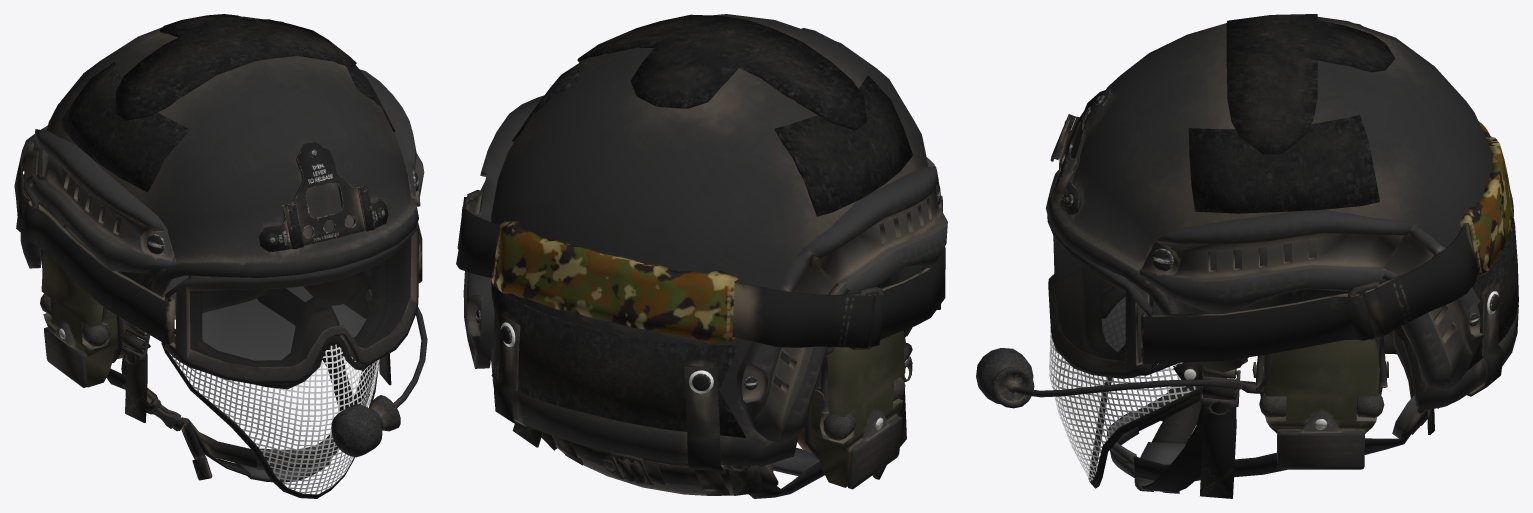
File: casco_a.glb
3 renders of one model, left to right at view 1: azimuth 30°, elevation 25°; view 2: azimuth 150°, elevation 25°; view 3: azimuth 270°, elevation 25°, orthographic. The views are drawn at different scales.
Parts seen in each view (by area): view 1: Final_Helmet Base_0, Final_Glasses_0, Final_Mask_0; view 2: Final_Helmet Base_0; view 3: Final_Helmet Base_0, Final_Glasses_0, Final_Mask_0.
Part boxes in pixels (box(x1,y1,x2,y2)): Final_Helmet Base_0: box(14, 14, 427, 498); Final_Glasses_0: box(189, 237, 411, 367); Final_Mask_0: box(172, 334, 379, 494); Final_Helmet Base_0: box(456, 14, 947, 498); Final_Helmet Base_0: box(976, 14, 1518, 498); Final_Glasses_0: box(1053, 236, 1125, 360); Final_Mask_0: box(1049, 301, 1195, 481).
Bounding box in the file's own units: 50.01 × 55.63 × 60.96.
Materials: 3 (2 with a texture image).
